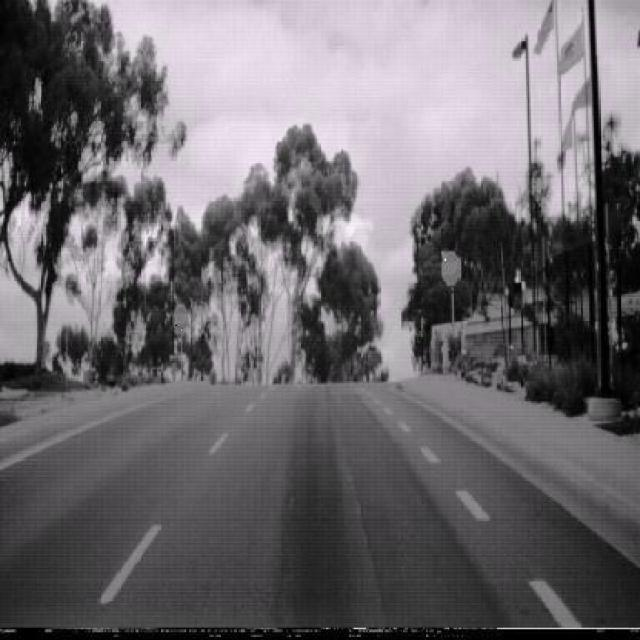stop: (443, 251, 462, 288), (172, 302, 188, 335)
